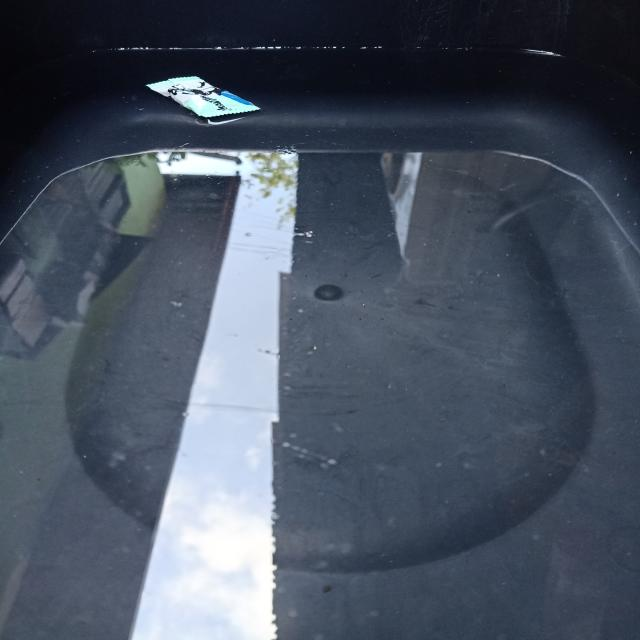Plastic Wrapper: (147, 76, 260, 117)
